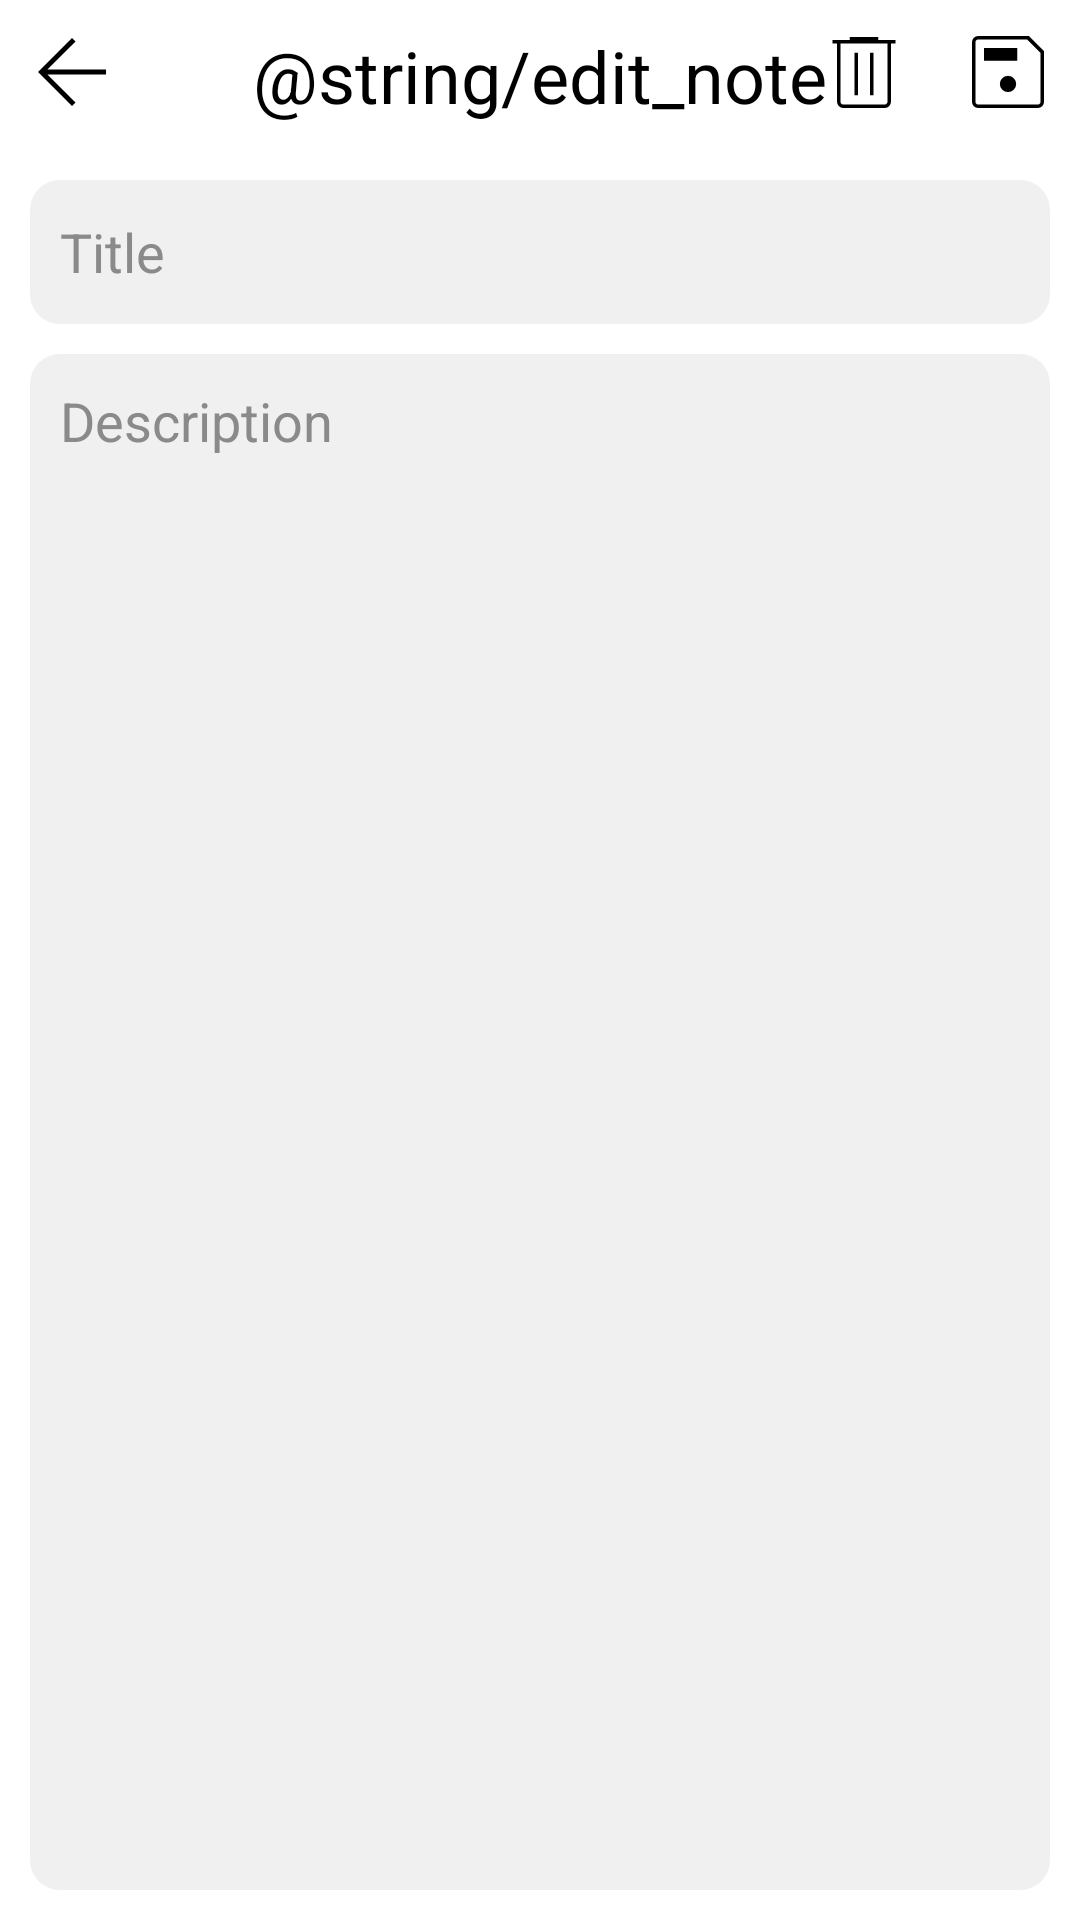

Icon click points for this 1080 × 1920 phone screenshot, format point (x, y):
back: point (72, 72)
delete note: point (844, 72)
save note: point (1008, 72)
